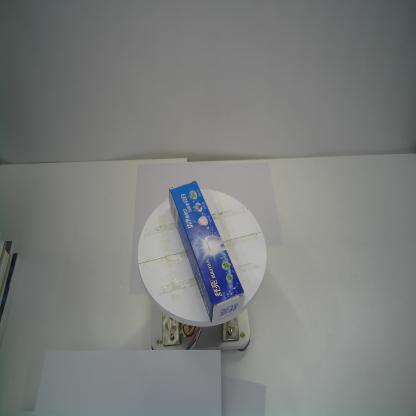Personal Hygiene: (168, 180, 247, 327)
